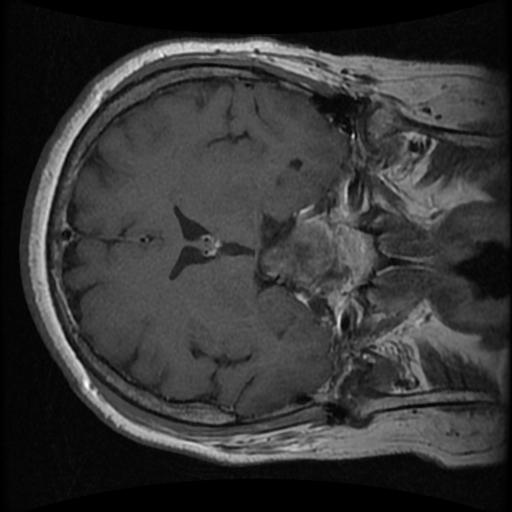pituitary tumour: (261, 204, 375, 309)
